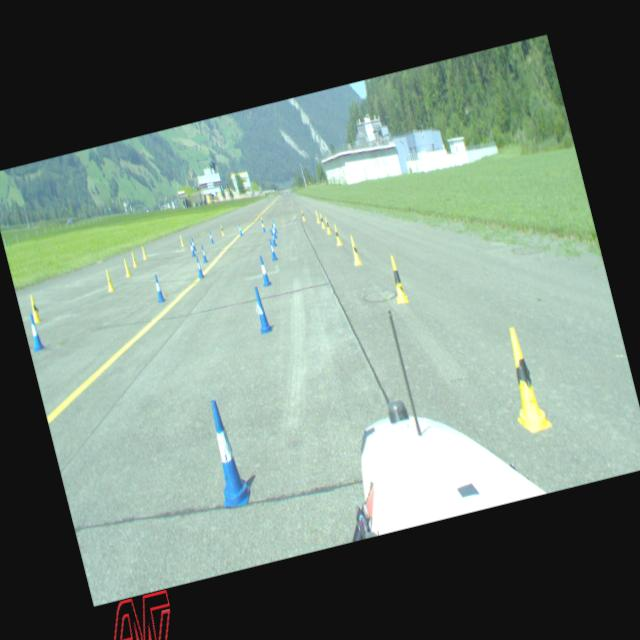blue_cone: (198, 395, 253, 509), (250, 286, 272, 334), (25, 313, 44, 352), (256, 254, 271, 286), (151, 274, 165, 302), (266, 238, 278, 260), (193, 255, 204, 278), (199, 244, 208, 262), (268, 228, 276, 246), (270, 222, 278, 238), (188, 240, 195, 256), (190, 238, 197, 250), (272, 219, 278, 232), (208, 230, 214, 243), (237, 223, 243, 235), (260, 220, 265, 232)
yellow_cone: (496, 323, 552, 435), (386, 254, 409, 304), (347, 234, 362, 265), (27, 294, 41, 323), (102, 269, 114, 291), (331, 222, 342, 245), (122, 257, 130, 277), (322, 216, 330, 233), (318, 212, 326, 228), (129, 251, 137, 267), (140, 244, 146, 259), (178, 233, 184, 246), (314, 210, 320, 223), (300, 209, 306, 220), (219, 224, 225, 235), (260, 216, 264, 227)
